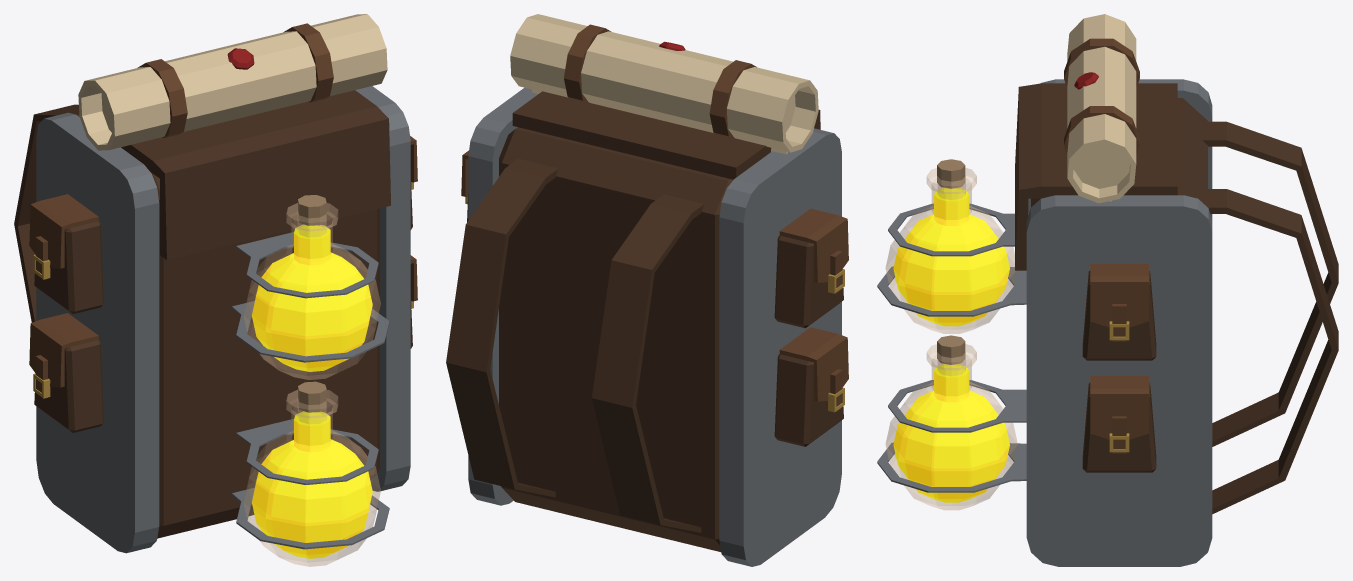
Rendered from TasBackup2.fbx.
3 renders of one model, left to right at view 1: azimuth 30°, elevation 25°; view 2: azimuth 150°, elevation 25°; view 3: azimuth 270°, elevation 25°, orthographic. The views are drawn at different scales.
Parts seen in each view (by area): view 1: TutupTas; view 2: TutupTas; view 3: TutupTas.
Boxes of the visible parts, x1,y1,x2,y2 form: TutupTas: (14,14,417,566); TutupTas: (446,14,848,566); TutupTas: (877,14,1338,566).
Size of the model in its own units: 45.6 by 53.78 by 52.21.
